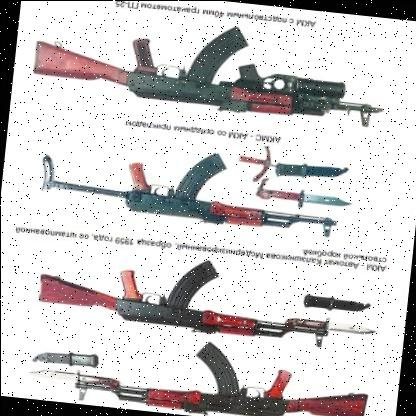rifle: (29, 2, 395, 138), (29, 237, 343, 345), (35, 132, 345, 241), (43, 319, 377, 416)
